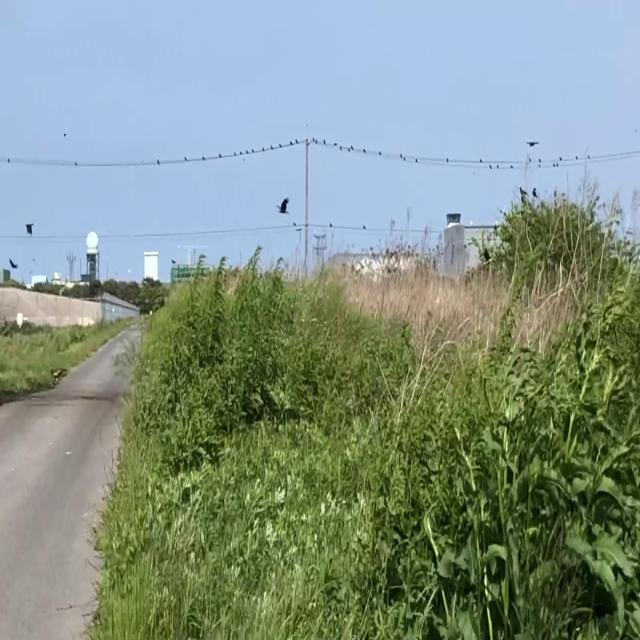bird: (277, 189, 289, 218), (527, 134, 537, 156), (8, 254, 18, 273), (26, 218, 34, 237)
